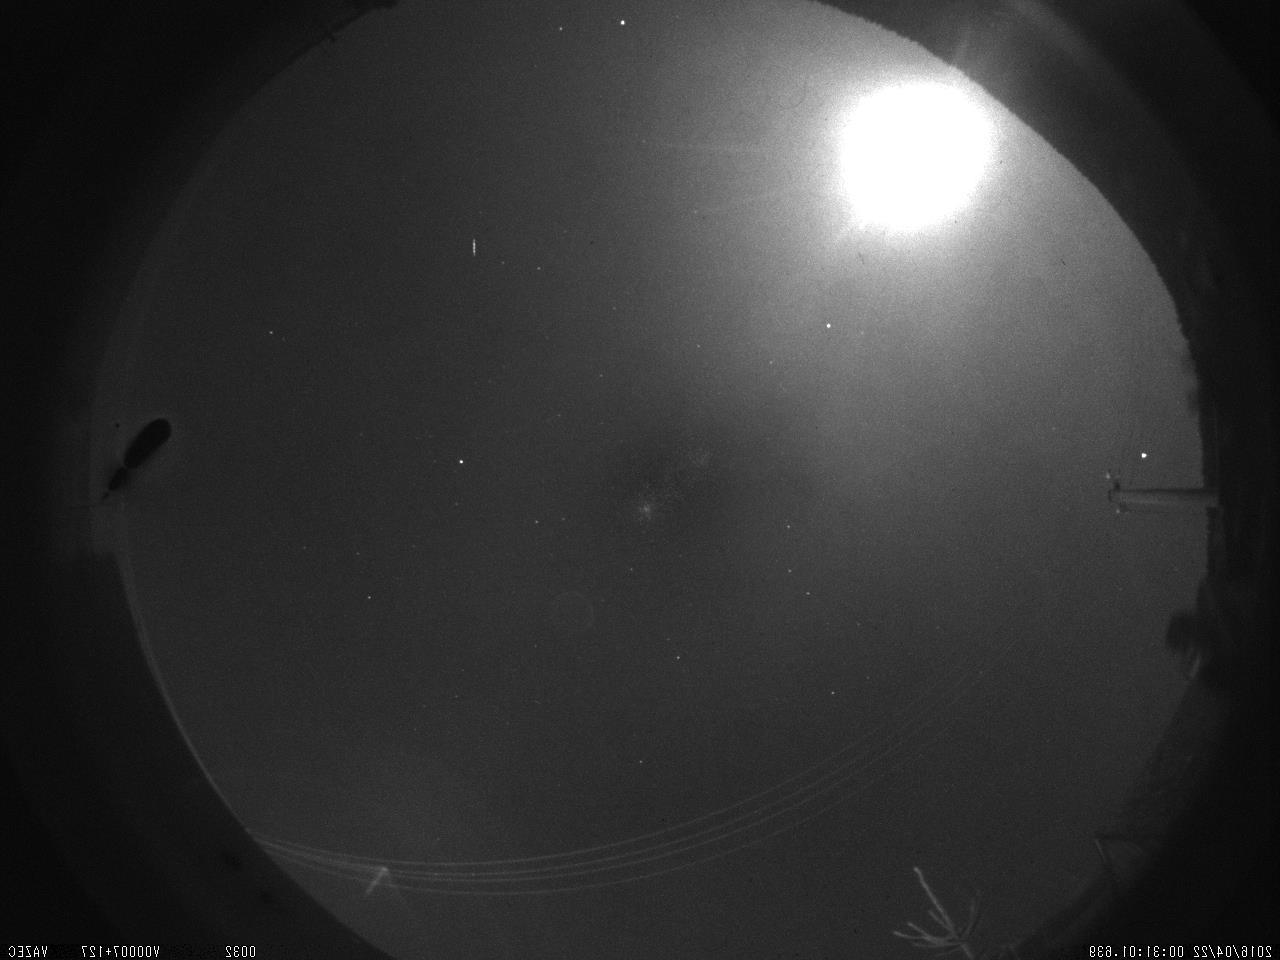meteor: (458, 230, 489, 265)
